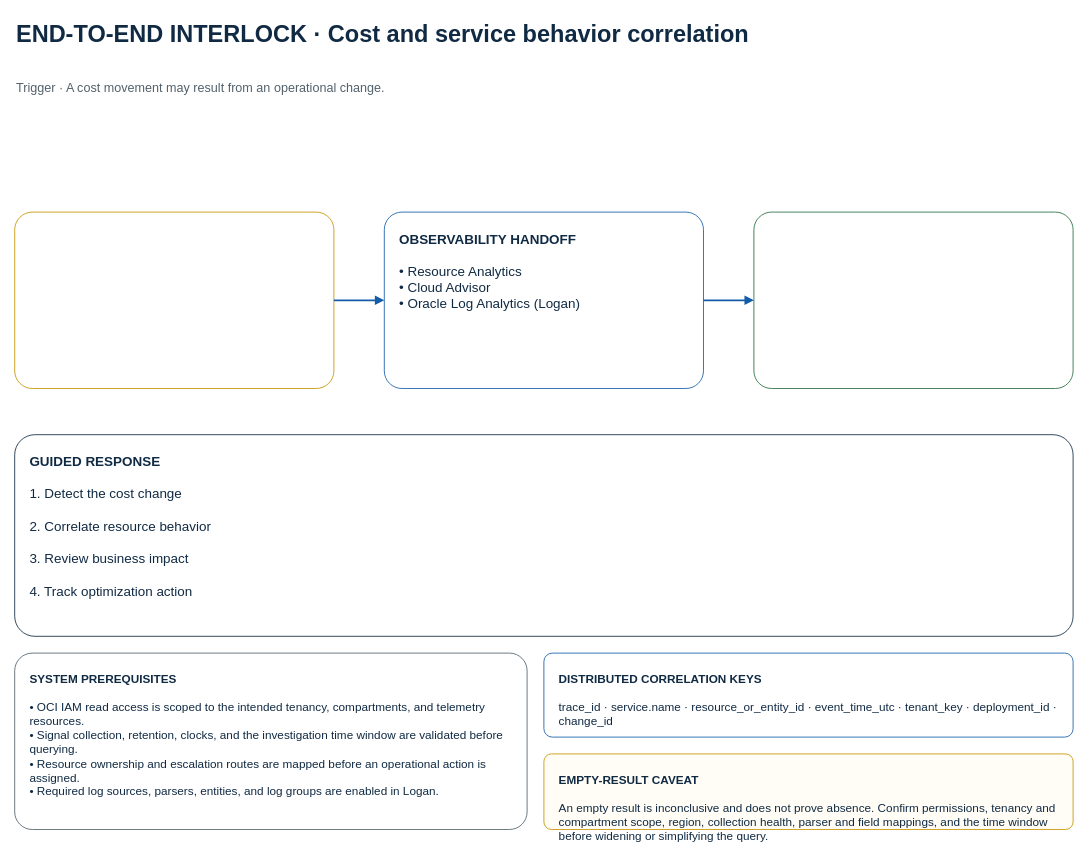
The diagram is 1088 pixels wide and 858 high, and some of its shapes have lost their labels. The centre of each missing label's shape, as x and y in pixels:
"OPERATIONAL OUTCOME • Link cost behavior to service decisions and owners." goes at pixel 913 299.
"SOURCE EVIDENCE • Usage trend • Resource inventory • Deployment context" goes at pixel 174 299.
